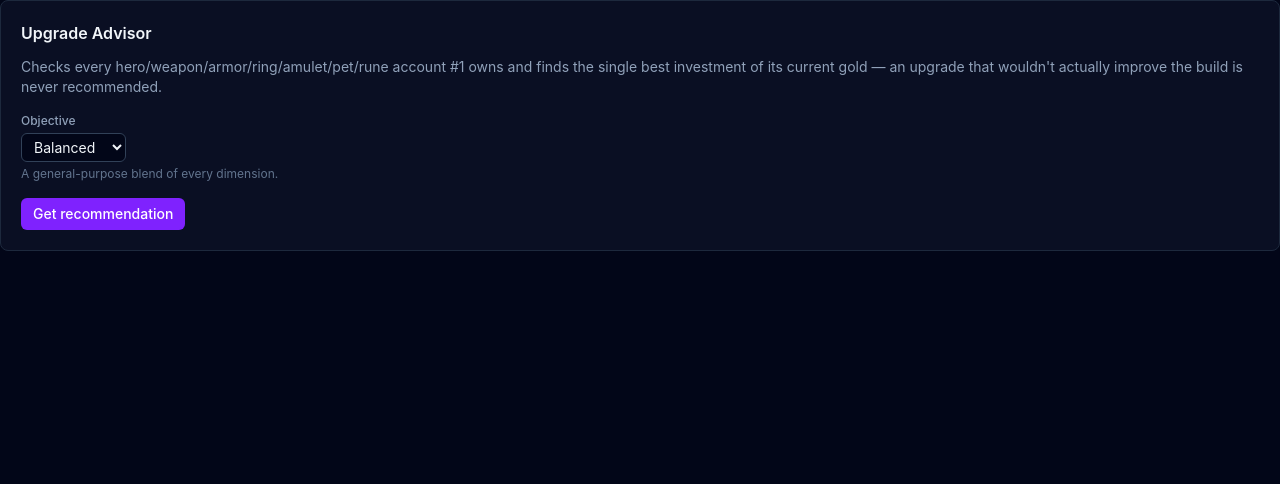
Test: UpgradeAdvisorPage › clears a stale recommendation when the objective changes afterward
Click the button "Get recommendation" at (103, 214), box [21,198,185,230]
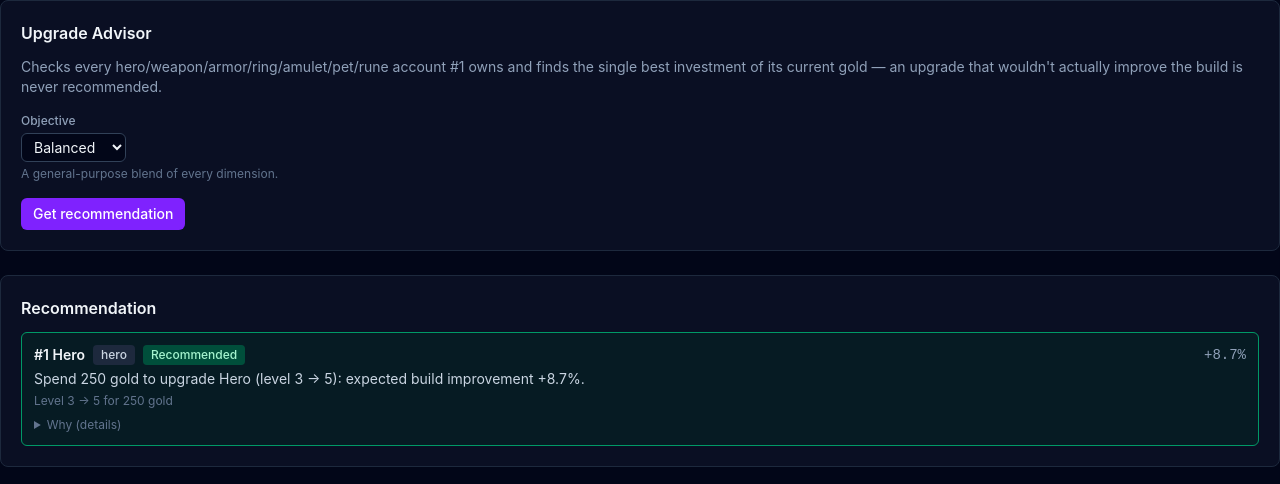
Expected: the text "Spend 250 gold to upgrade Hero (level 3 -> 5): expected build improvement +8.7%." is shown, [34,370,585,387]
Select "Farming" in the dropdown labelled "Objective" at (74, 148), box [21,133,126,162]
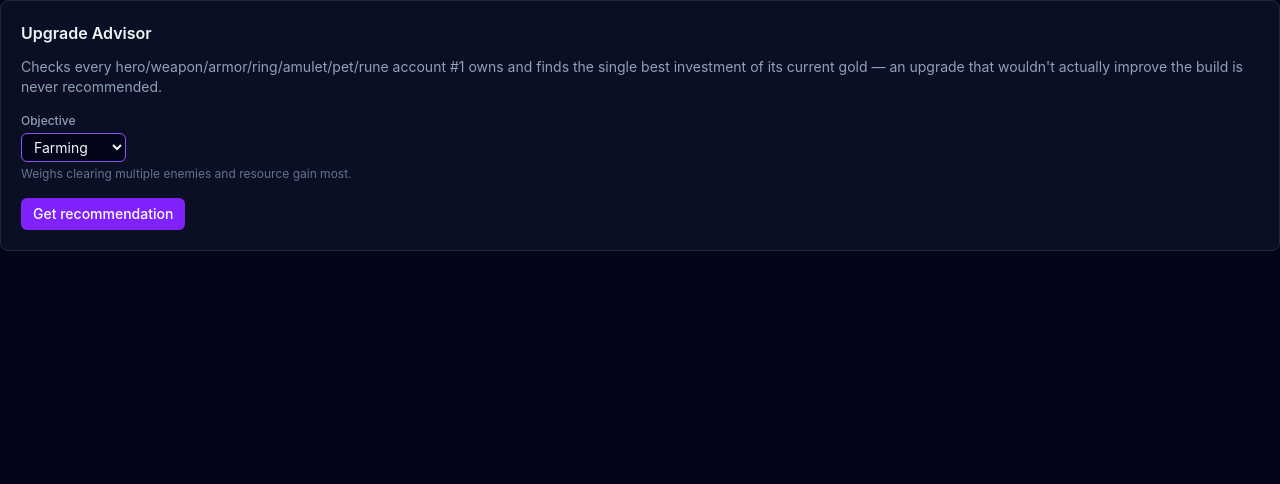
Expected: the text "Spend 250 gold to upgrade Hero (level 3 -> 5): expected build improvement +8.7%." is gone
